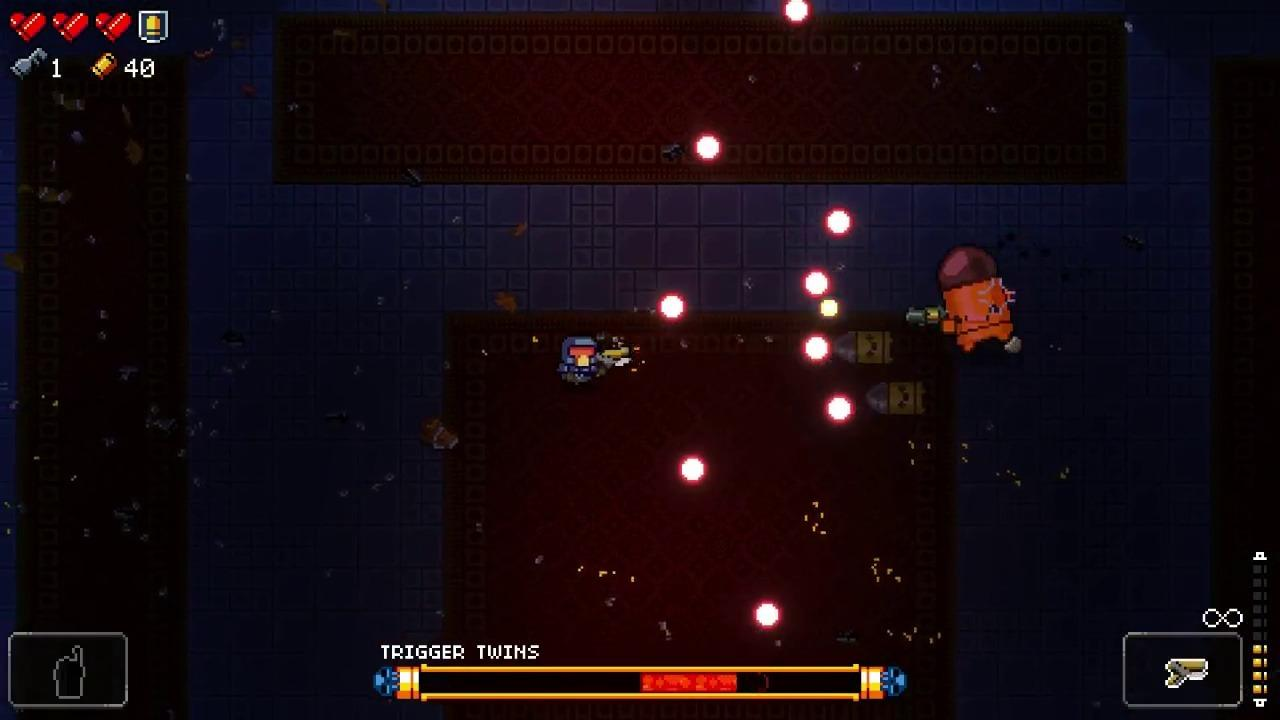boss_smiley: (941, 246, 1014, 350)
bullet: (802, 333, 831, 368), (823, 393, 854, 424), (825, 207, 852, 242), (780, 0, 813, 27), (802, 269, 831, 299), (657, 294, 686, 323), (678, 456, 706, 486), (694, 132, 722, 162), (752, 604, 781, 629)
dead_bullet_kin: (831, 330, 896, 367), (867, 382, 926, 418)
player: (560, 337, 598, 390)
